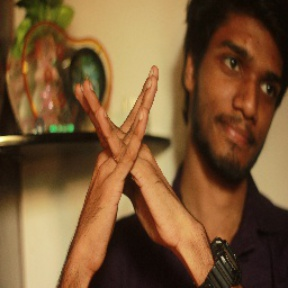W: (64, 57, 196, 260)
